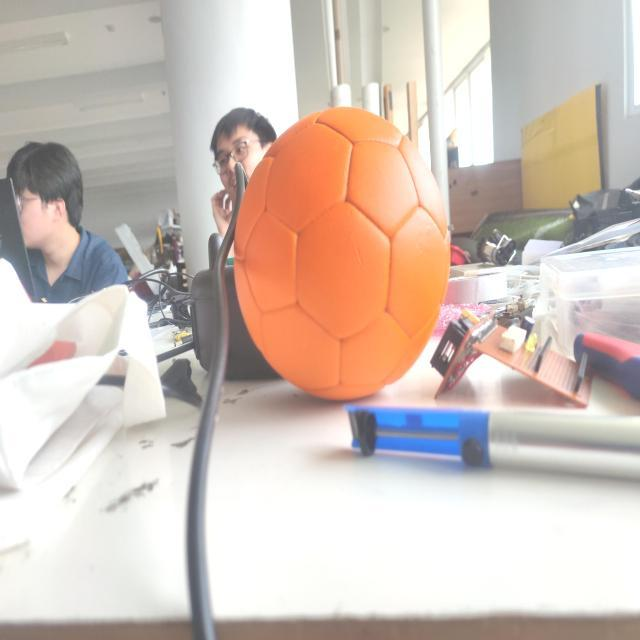bola: (231, 105, 453, 404)
